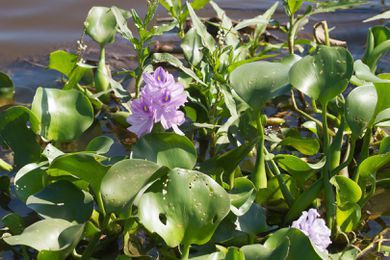water_hyacinth: (1, 0, 390, 260)
